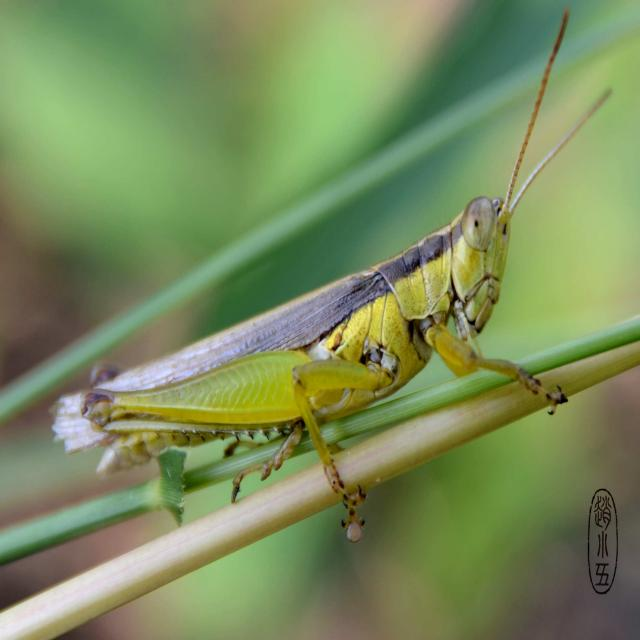ZhaMeng: (39, 151, 580, 527)
